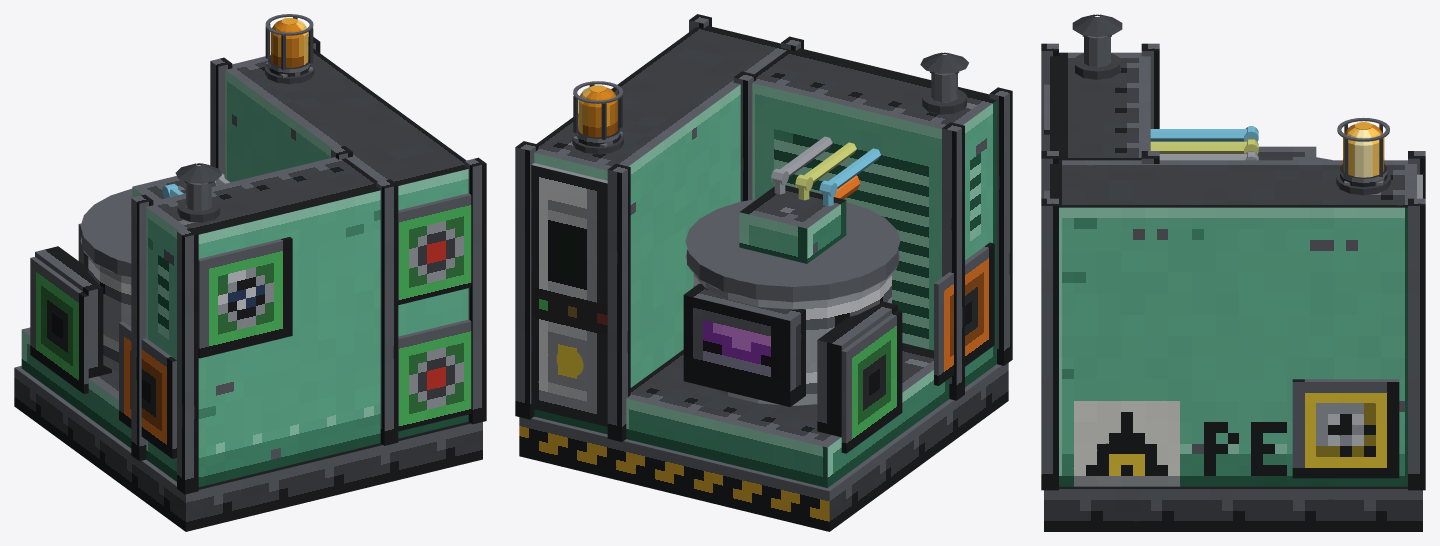
File: plasma_etcher.glb
3 renders of one model, left to right at view 1: azimuth 30°, elevation 25°; view 2: azimuth 150°, elevation 25°; view 3: azimuth 270°, elevation 25°, orthographic. The views are drawn at different scales.
Parts seen in each view (by area): view 1: body, body_glow; view 2: body, mode_argon_shape_0, body_glow; view 3: body, part_0_glow.
Boxes of the visible parts, x1,y1,x2,y2 form: body: (14, 14, 486, 531); body_glow: (271, 20, 303, 67); body: (515, 14, 1012, 531); mode_argon_shape_0: (683, 283, 805, 406); body_glow: (583, 87, 617, 137); body: (1041, 14, 1425, 531); part_0_glow: (1344, 127, 1383, 177).
Size of what is drawn, in the model's own units: 2.03 by 2.21 by 2.03.
1 material, 1 textured.
